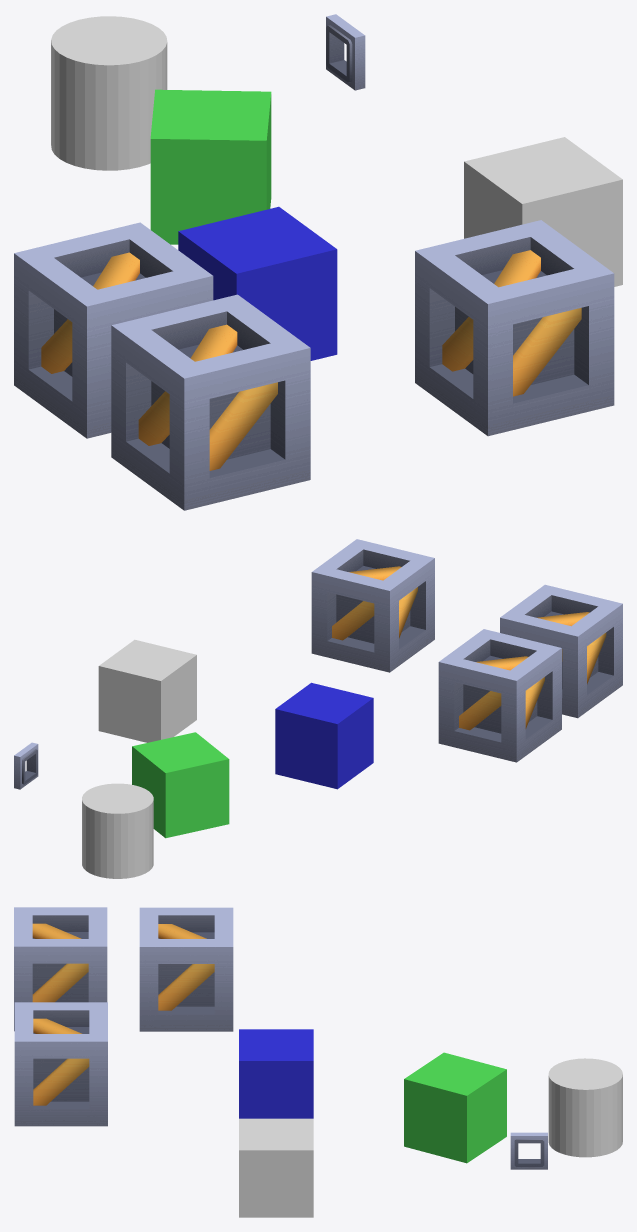
File: normal.glb
The picture shows the model from 3 angles, top to bottom: view 1: azimuth 30°, elevation 25°; view 2: azimuth 150°, elevation 25°; view 3: azimuth 270°, elevation 25°; orthographic projection. The views are drawn at different scales.
Visible parts, largest first — view 1: crate, crate.001, crate.002, Cube.002, Cylinder, Cube.001, Cube, wall-window-large; view 2: crate, crate.002, crate.001, Cube.001, Cube, Cube.002, Cylinder, wall-window-large; view 3: crate.002, crate, Cube.002, crate.001, Cube, Cylinder, Cube.001, wall-window-large.
Part boxes in pixels (left/top/right/bottom): crate: left=415, top=220, right=614, bottom=436; crate.001: left=111, top=294, right=310, bottom=510; crate.002: left=14, top=222, right=213, bottom=438; Cube.002: left=150, top=89, right=271, bottom=244; Cylinder: left=51, top=16, right=167, bottom=170; Cube.001: left=178, top=206, right=337, bottom=360; Cube: left=464, top=137, right=622, bottom=286; wall-window-large: left=326, top=14, right=365, bottom=90; crate: left=311, top=539, right=434, bottom=672; crate.002: left=438, top=629, right=561, bottom=762; crate.001: left=500, top=584, right=622, bottom=718; Cube.001: left=275, top=682, right=373, bottom=789; Cube: left=98, top=639, right=196, bottom=742; Cube.002: left=132, top=732, right=229, bottom=838; Cylinder: left=82, top=783, right=153, bottom=878; wall-window-large: left=14, top=742, right=38, bottom=789; crate.002: left=139, top=907, right=233, bottom=1031; crate: left=14, top=1002, right=107, bottom=1126; Cube.002: left=404, top=1052, right=506, bottom=1163; crate.001: left=14, top=907, right=107, bottom=1031; Cube: left=239, top=1118, right=313, bottom=1217; Cylinder: left=548, top=1058, right=622, bottom=1157; Cube.001: left=239, top=1029, right=313, bottom=1118; wall-window-large: left=510, top=1132, right=547, bottom=1169.
Size of the model in its own units: 12.2 by 3.51 by 16.35.
7 materials, 4 textured.
